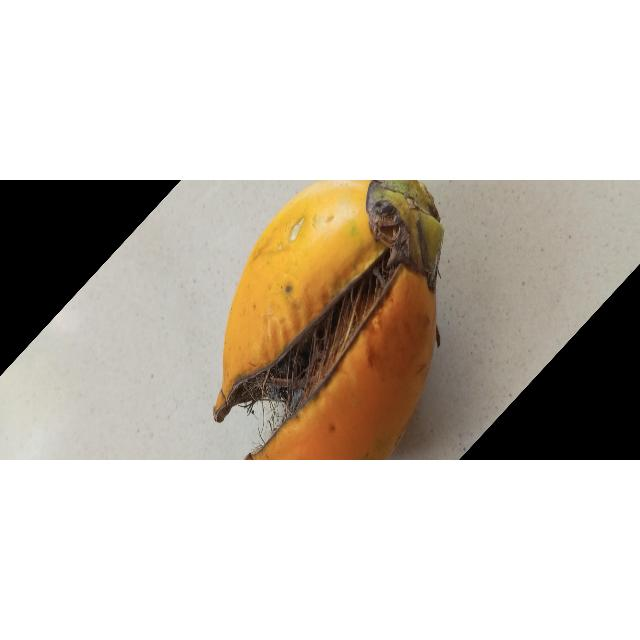damaged: (213, 180, 443, 461)
